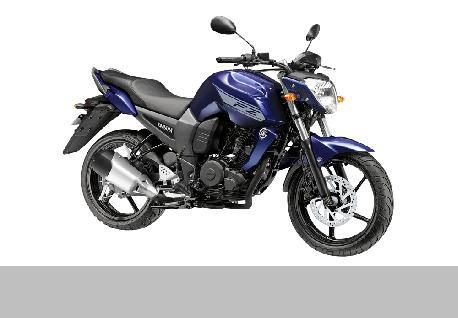motorbike: (62, 14, 394, 257)
